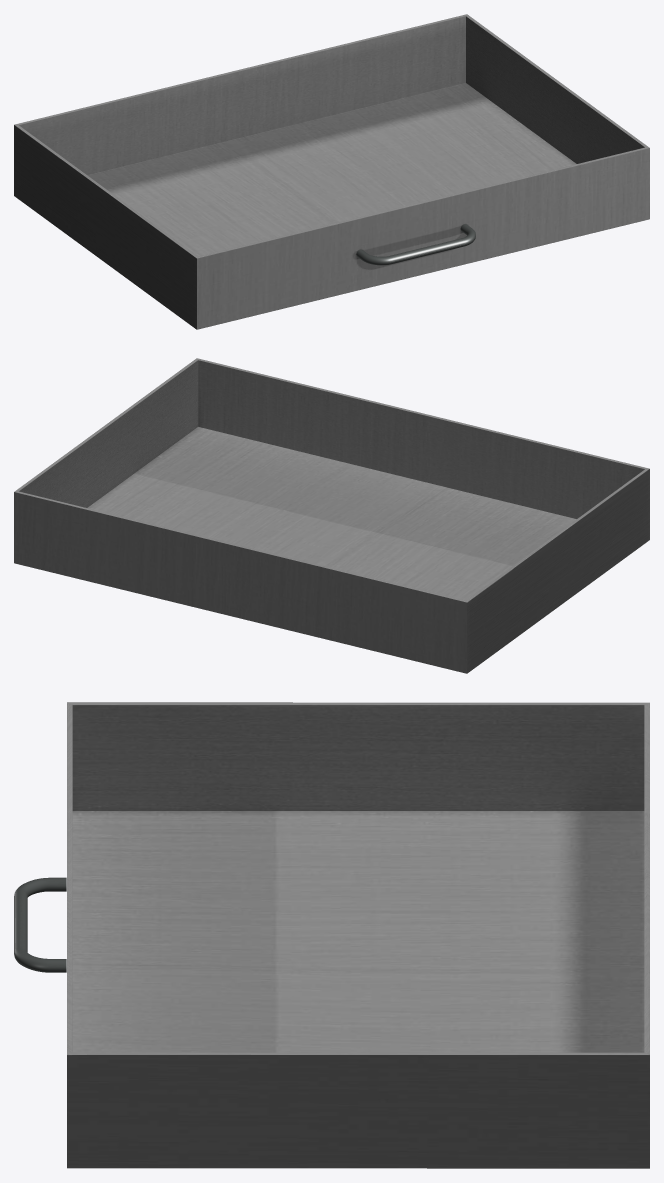
Rendered from drawer_i.gltf.
3 views of the same model, one above another, from view 1: azimuth 30°, elevation 25°; view 2: azimuth 150°, elevation 25°; view 3: azimuth 270°, elevation 25° (orthographic). The views are drawn at different scales.
Visible parts, largest first — view 1: drawer_i, handle_i; view 2: drawer_i; view 3: drawer_i, handle_i.
Boxes of the visible parts, box(x1,y1,x2,y2) form: drawer_i: box(14, 14, 649, 329); handle_i: box(356, 224, 475, 265); drawer_i: box(14, 358, 649, 673); drawer_i: box(67, 702, 649, 1168); handle_i: box(14, 877, 66, 972).
Bounding box in the file's own units: 2.54 × 0.381 × 1.93.
2 materials, 2 textured.
